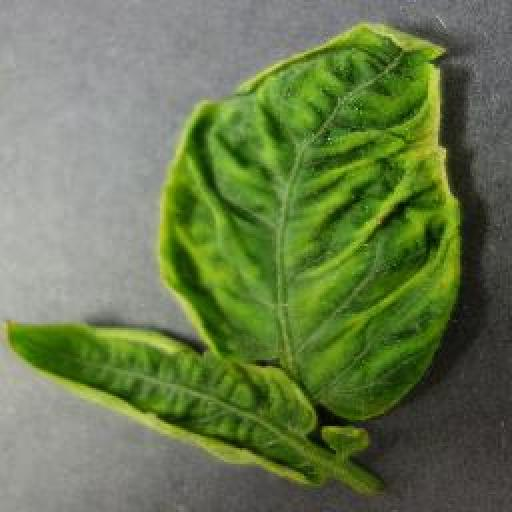disease_tomato: (2, 18, 460, 486)
